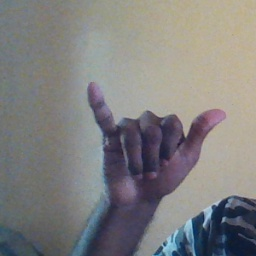J: (83, 79, 228, 207)
